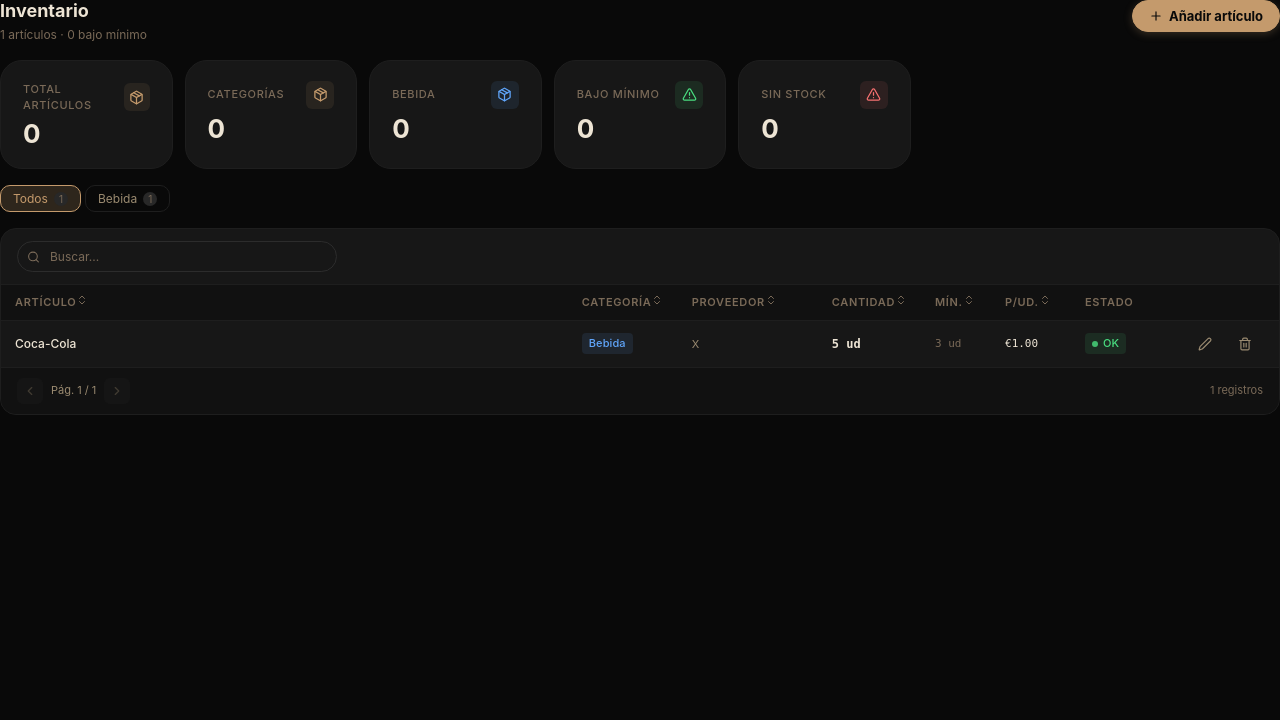
Test: InventoryPage — stockModal › shows empty message when noStock list is empty
This screenshot has width=1280, height=720.
Expected: the text "Coca-Cola" is shown, [15,335,76,353]
Step 1. Click the button "Sin stock 0" → (825, 114), box [738,60,911,169]
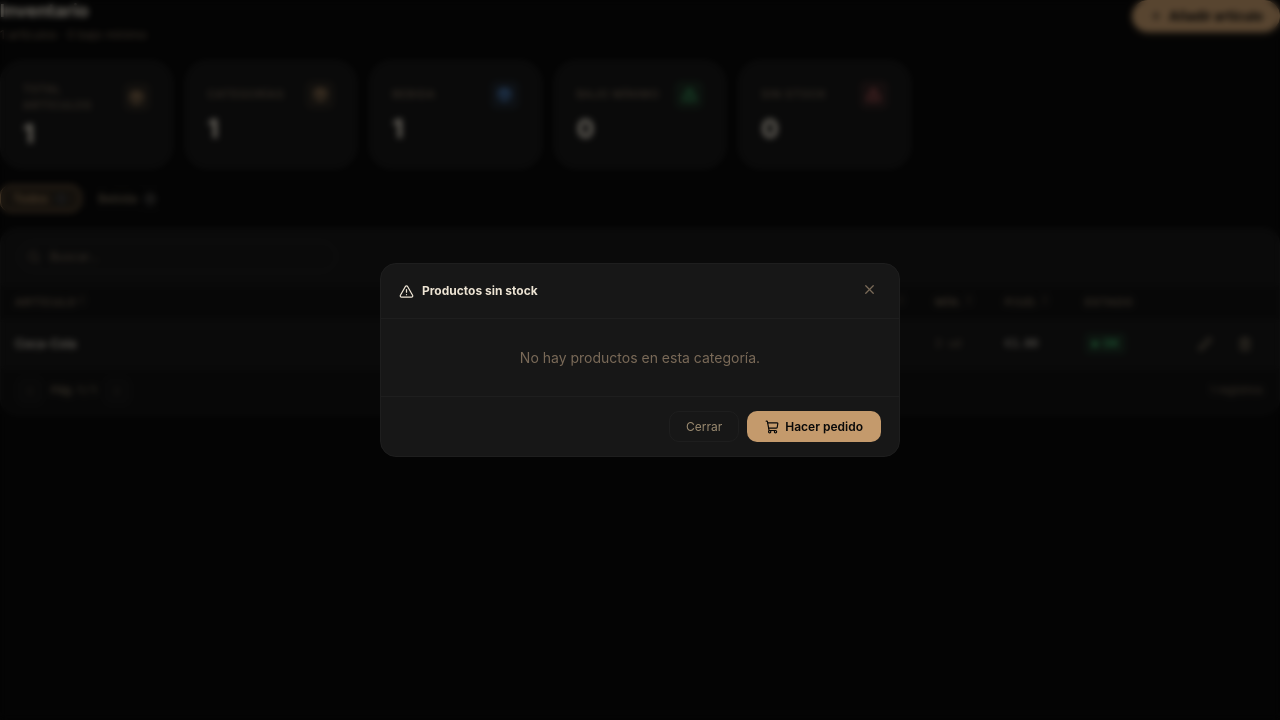
Expected: the heading "Productos sin stock" is shown, [399,282,538,300]
Expected: the text "No hay productos en esta categoría." is shown, [520,349,760,366]
